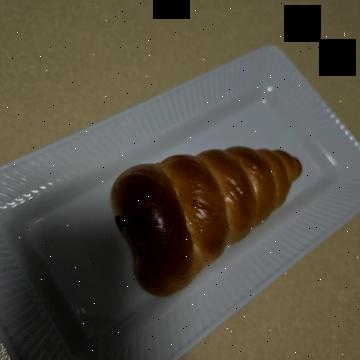cream horn: (125, 50, 302, 271)
